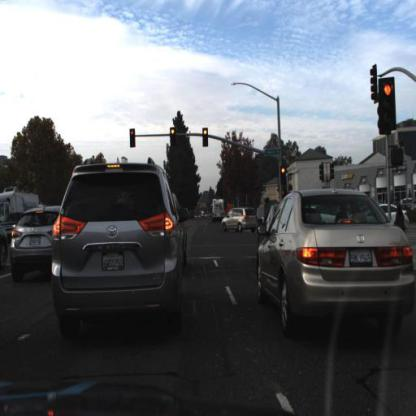car: (255, 188, 411, 340), (54, 161, 186, 332), (15, 205, 68, 278), (306, 195, 349, 250), (222, 204, 260, 238), (224, 205, 257, 237), (255, 203, 273, 252), (376, 205, 410, 230), (207, 197, 231, 228)
pedestrian: (396, 205, 406, 233)
trafficLight: (129, 125, 137, 151)
trafficLight-Red: (376, 74, 401, 142), (201, 125, 211, 152), (168, 126, 178, 148), (170, 130, 178, 153), (280, 165, 288, 188), (202, 128, 210, 147)
truck: (1, 185, 55, 236), (1, 189, 42, 235), (212, 197, 227, 223)
